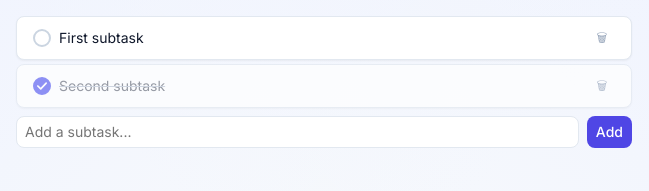
Test case: SubtaskList › shows error when delete fails
Expected: the text "First subtask" is shown, [59,27,144,49]
Click the button named "delete subtask": (602,38) [589,25,615,51]
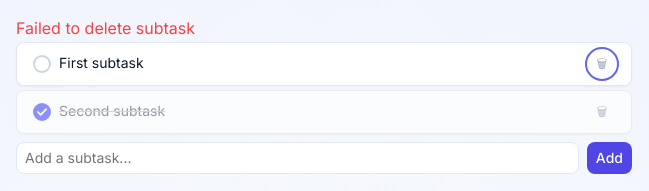
Result: the text "Failed to delete subtask" is shown at [16,18,195,38]
